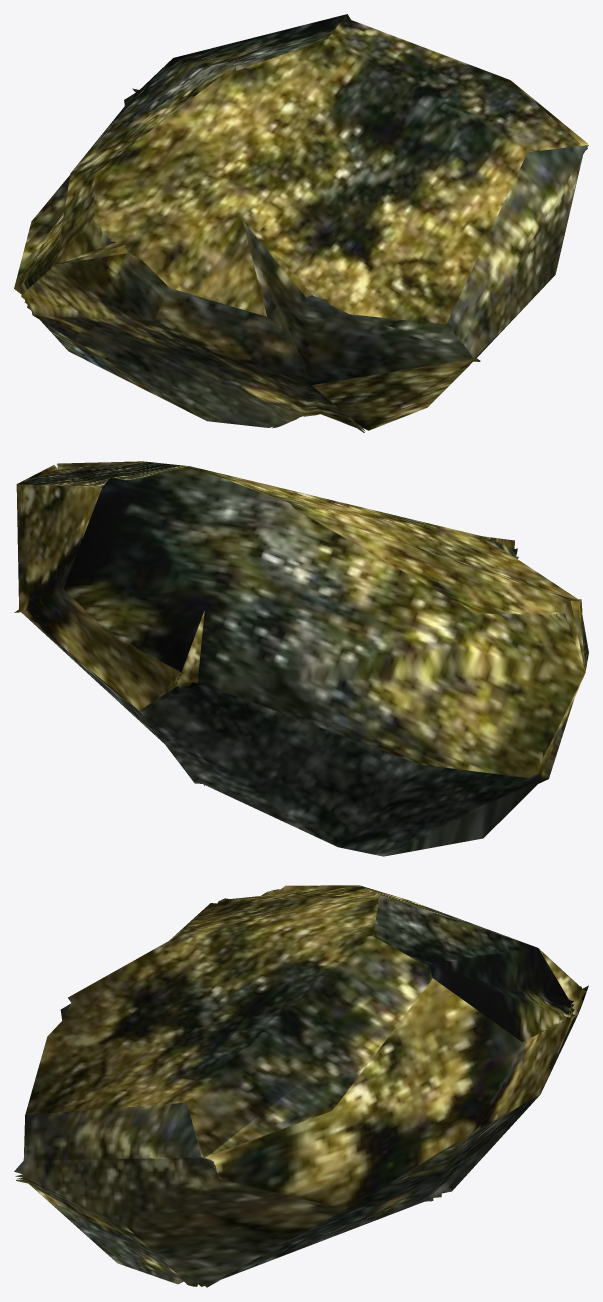
File: med8.glb
3 renders of one model, top to bottom at view 1: azimuth 30°, elevation 25°; view 2: azimuth 150°, elevation 25°; view 3: azimuth 270°, elevation 25°, orthographic. The views are drawn at different scales.
Parts seen in each view (by area): view 1: дом.013; view 2: дом.013; view 3: дом.013.
Boxes of the visible parts, left/top/right/bottom form: дом.013: left=14, top=14, right=588, bottom=432; дом.013: left=14, top=461, right=588, bottom=856; дом.013: left=14, top=885, right=588, bottom=1287.
Bounding box in the file's own units: 0.6842 × 0.4073 × 0.5892.
Materials: 1 (1 with a texture image).
